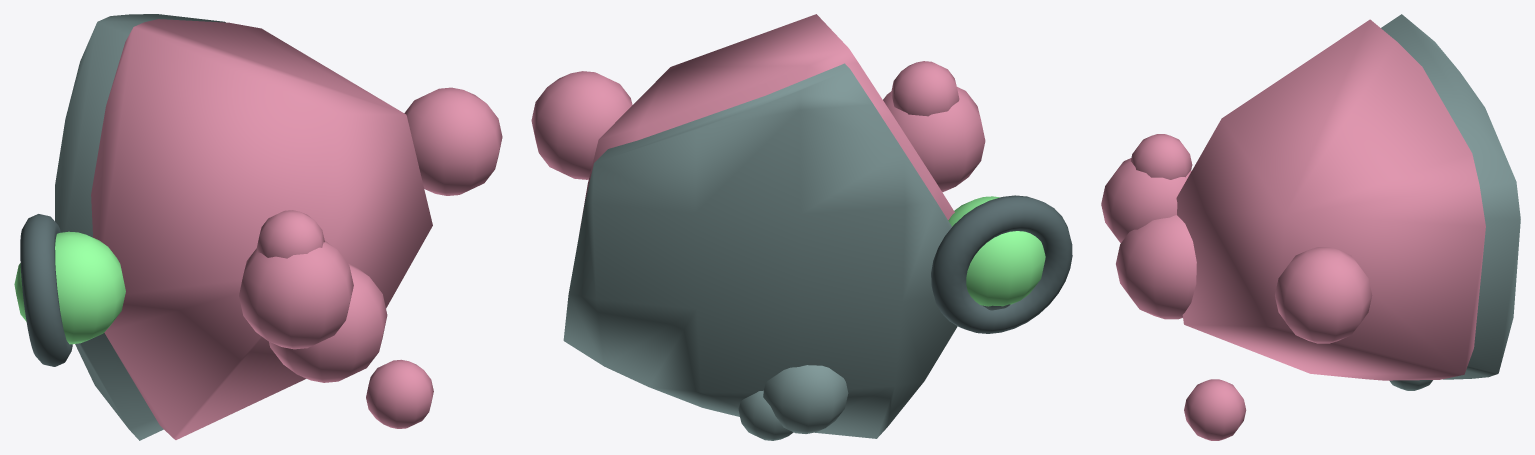
Rendered from chunk21.glb.
The picture shows the model from 3 angles, left to right: view 1: azimuth 30°, elevation 25°; view 2: azimuth 150°, elevation 25°; view 3: azimuth 270°, elevation 25°; orthographic projection. The views are drawn at different scales.
Parts seen in each view (by area): view 1: flesh, skin, glow, lip; view 2: skin, flesh, lip, glow; view 3: flesh, skin.
Boxes of the visible parts, x1,y1,x2,y2 form: flesh: (91,19,502,439); skin: (55,14,225,440); glow: (14,231,125,344); lip: (20,214,72,366); skin: (563,63,1010,440); flesh: (531,14,985,230); lip: (931,195,1072,333); glow: (948,196,1045,306); flesh: (1101,19,1485,440); skin: (1381,14,1520,390).
Size of the model in its own units: 0.9681 by 0.7416 by 0.7884.
